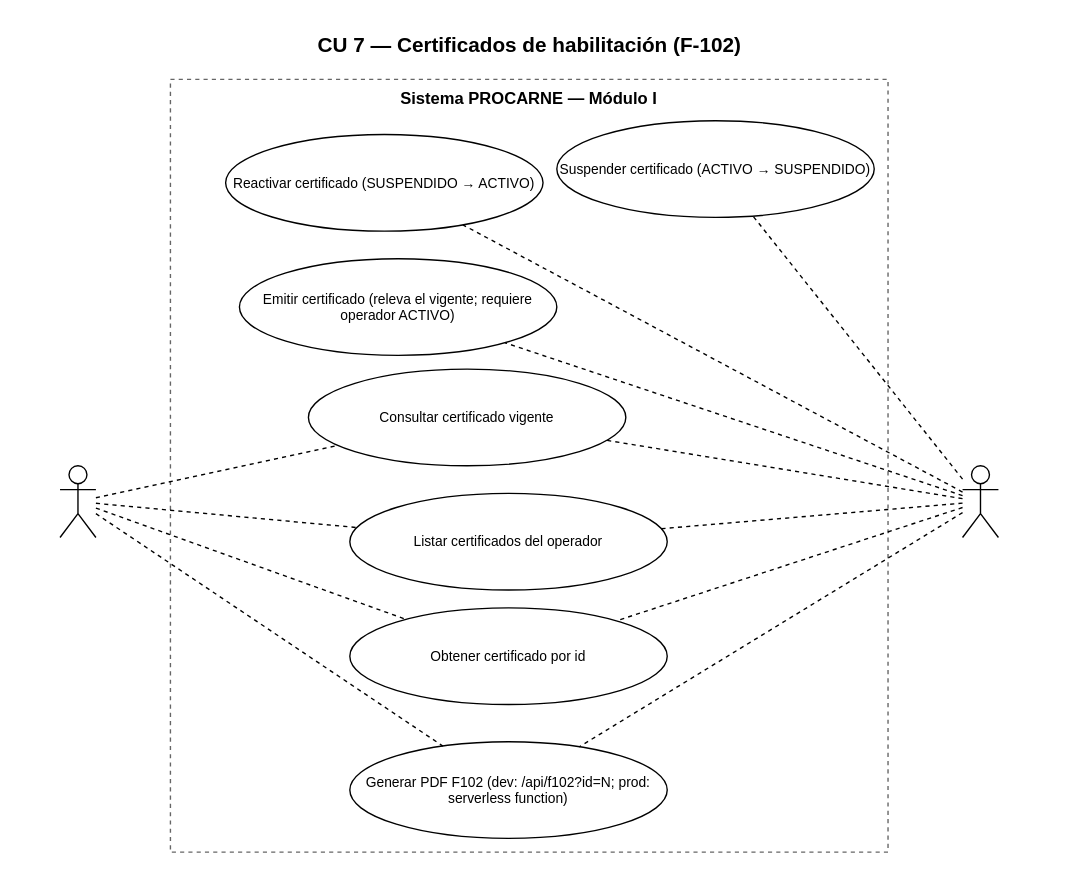
Image size: 1067x876. Some labels were removed from this diagram. The box of each missing label's shape, as (x1, y1, x2, y2) in pixels:
Persona (titular): (59, 464, 96, 538)
Supervisor / Admin: (961, 464, 998, 538)
